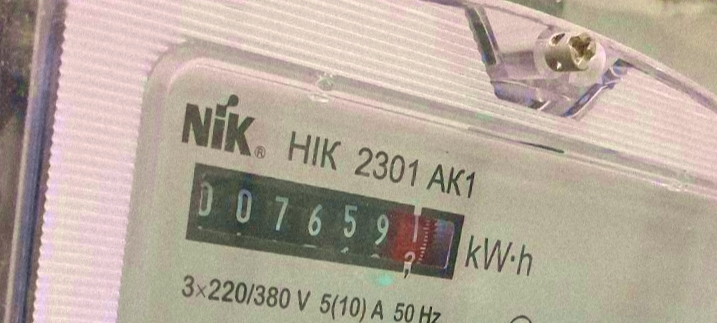0: (228, 183, 256, 227), (189, 177, 216, 220)
1: (404, 212, 424, 247)
5: (336, 201, 359, 241)
6: (301, 199, 326, 239)
7: (266, 192, 289, 234)
9: (369, 210, 390, 249)
screen: (171, 152, 474, 299)
